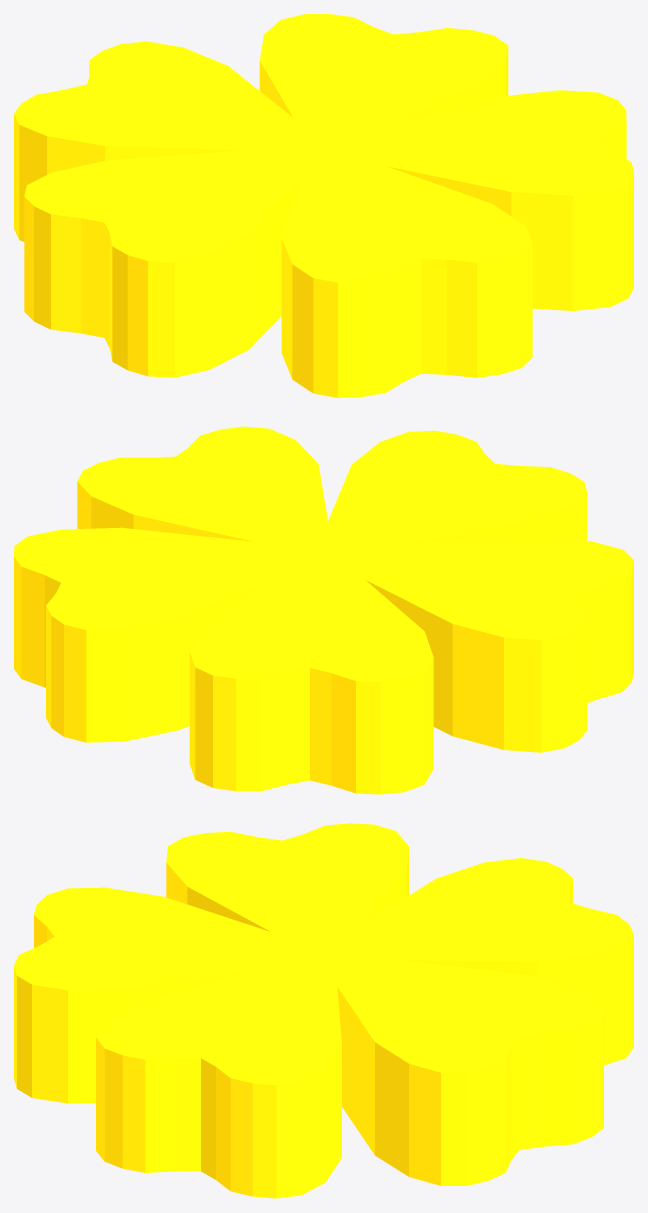
File: clover5.glb
3 renders of one model, top to bottom at view 1: azimuth 30°, elevation 25°; view 2: azimuth 150°, elevation 25°; view 3: azimuth 270°, elevation 25°, orthographic. The views are drawn at different scales.
Visible parts, largest first — view 1: clover5; view 2: clover5; view 3: clover5.
Part boxes in pixels (x1=…): clover5: x1=14, y1=14, x2=633, y2=397; clover5: x1=14, y1=426, x2=633, y2=794; clover5: x1=14, y1=823, x2=633, y2=1198.
Size of the model in its own units: 0.4962 by 0.1 by 0.4962.
